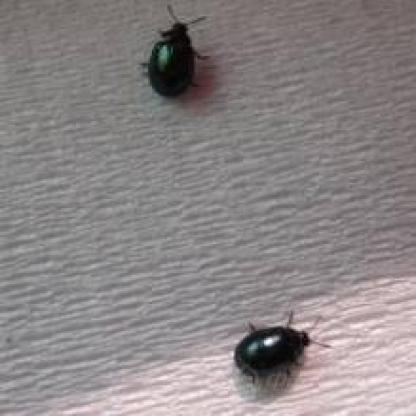beetle: (139, 0, 218, 101), (227, 313, 342, 382)
